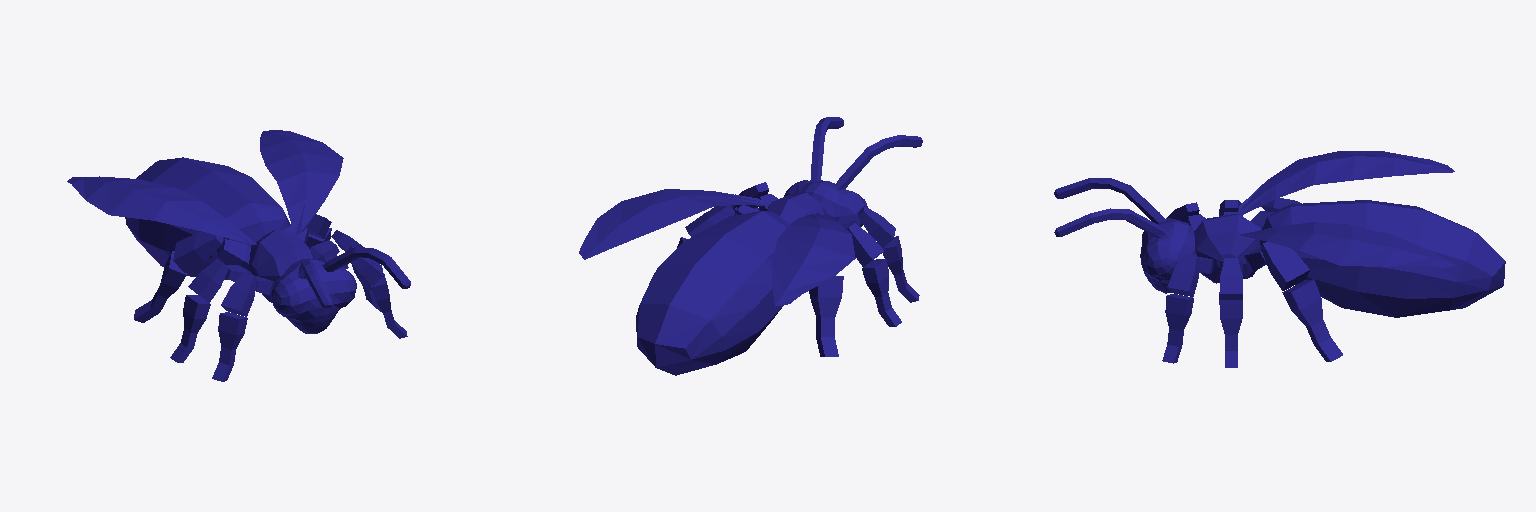
The model's file is bee.obj.
3 views of the same model, side by side, from view 1: azimuth 30°, elevation 25°; view 2: azimuth 150°, elevation 25°; view 3: azimuth 270°, elevation 25° (orthographic).
Visible parts, largest first — view 1: Bee_N004; view 2: Bee_N004; view 3: Bee_N004.
Boxes of the visible parts, x1,y1,x2,y2 form: Bee_N004: [67, 130, 410, 381]; Bee_N004: [579, 117, 922, 375]; Bee_N004: [1054, 151, 1505, 367].
Size of the model in its own units: 87.93 by 44.24 by 145.